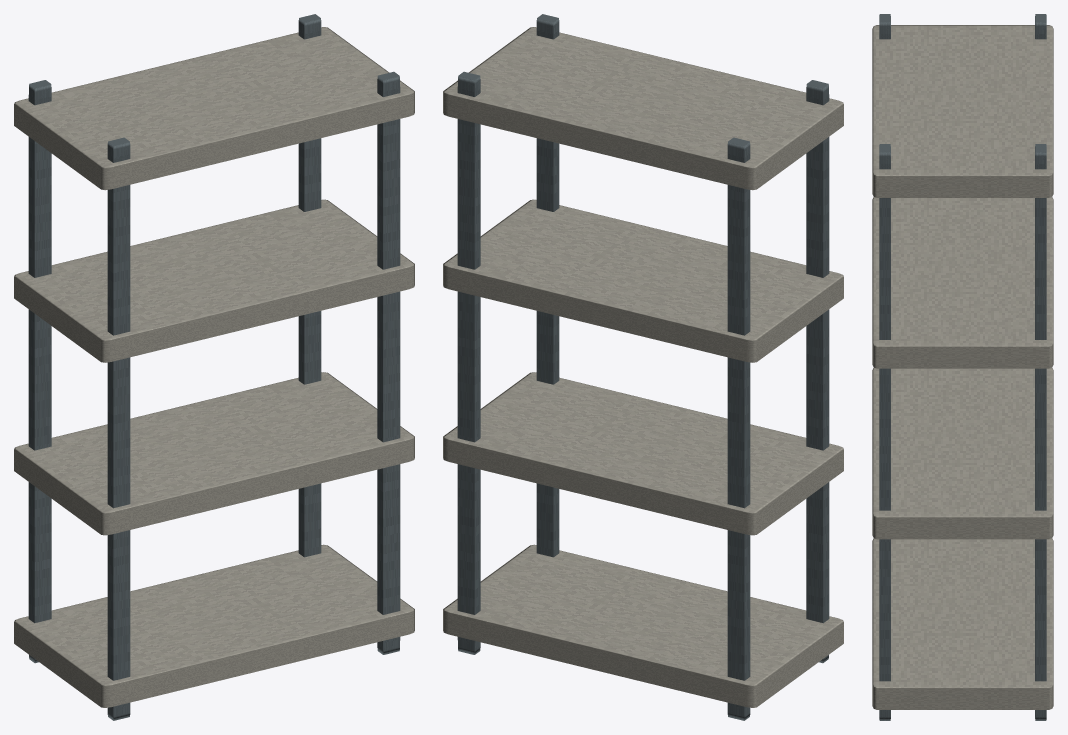
Rendered from supply-rack.glb.
3 views of the same model, side by side, from view 1: azimuth 30°, elevation 25°; view 2: azimuth 150°, elevation 25°; view 3: azimuth 270°, elevation 25° (orthographic).
Visible parts, largest first — view 1: shelf (×4), leg (×4); view 2: shelf (×4), leg (×4); view 3: shelf (×4), leg (×4).
Part boxes in pixels (x1,y1,x2,y2): shelf (×4): (14, 27, 414, 707); leg (×4): (28, 14, 400, 720); shelf (×4): (443, 27, 843, 707); leg (×4): (457, 14, 829, 720); shelf (×4): (872, 25, 1053, 709); leg (×4): (879, 14, 1046, 720).
Size of the model in its own units: 0.89 by 1.56 by 0.45.
2 materials, 2 textured.
